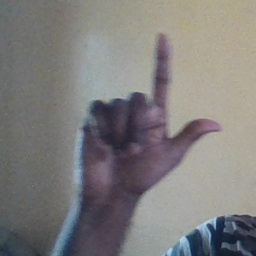L: (67, 31, 225, 201)
